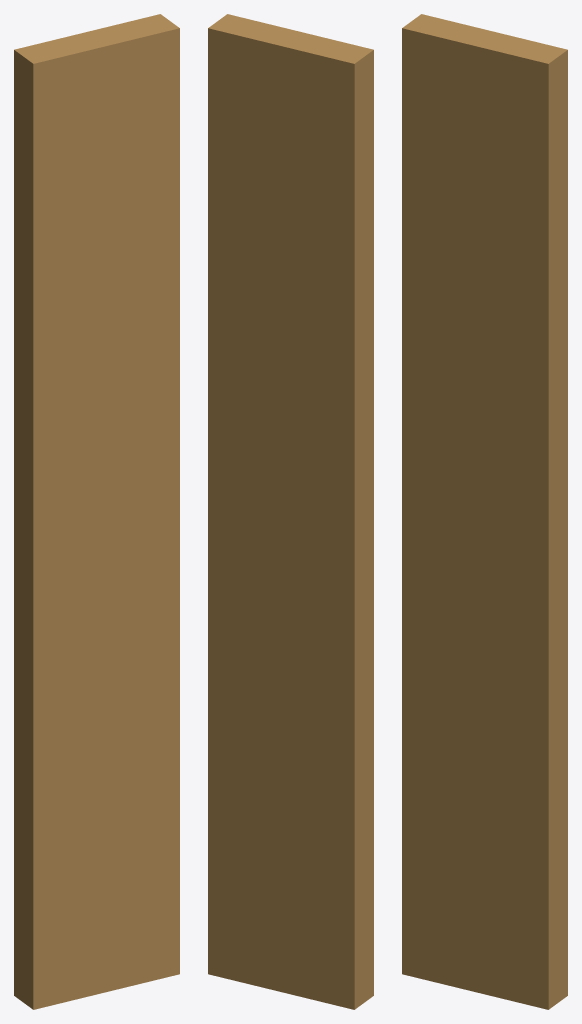
3 views of the same model, side by side, from view 1: azimuth 30°, elevation 25°; view 2: azimuth 150°, elevation 25°; view 3: azimuth 330°, elevation 25° (orthographic).
Visible parts, largest first — view 1: FF-W121; view 2: FF-W121; view 3: FF-W121.
Part boxes in pixels (<box>): FF-W121: <box>14,14,179,1009</box>; FF-W121: <box>208,14,373,1009</box>; FF-W121: <box>402,14,567,1009</box>.
Size of the model in its own units: 0.392 by 2.42 by 0.09.
